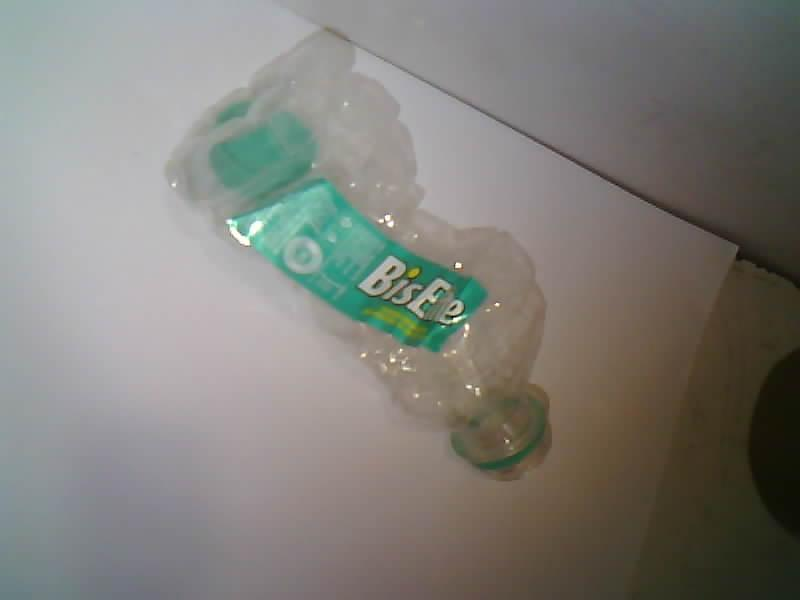non-biodegradable: (168, 32, 546, 477)
